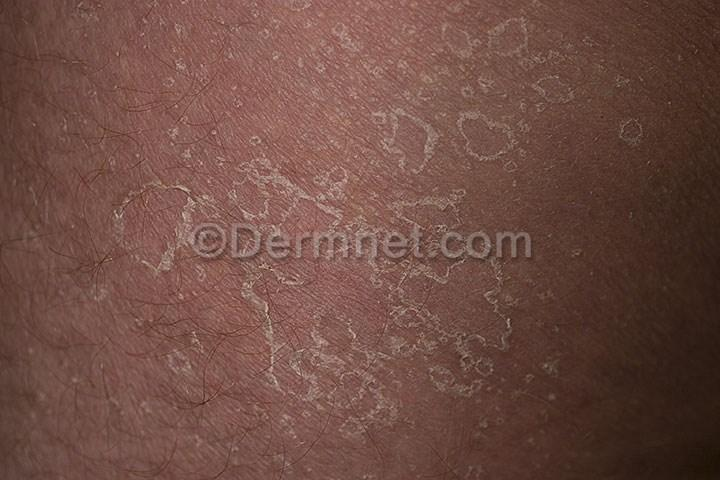Eczema: (396, 249, 513, 360), (108, 180, 202, 277), (454, 105, 521, 170), (228, 160, 298, 222), (387, 97, 436, 181), (232, 253, 299, 314), (392, 195, 467, 233), (328, 376, 402, 414), (484, 17, 532, 72), (258, 309, 286, 395), (293, 186, 353, 225), (290, 339, 341, 382), (428, 363, 483, 402), (528, 81, 584, 115), (436, 19, 478, 63), (347, 332, 391, 370), (363, 252, 395, 300), (525, 45, 566, 76), (458, 347, 497, 376), (620, 118, 653, 152), (314, 170, 350, 201), (165, 346, 194, 378), (333, 413, 374, 435), (420, 68, 453, 87), (331, 19, 354, 44), (369, 106, 388, 131), (475, 75, 496, 94), (279, 0, 317, 10), (401, 21, 421, 40), (459, 89, 486, 103), (247, 134, 267, 150)
